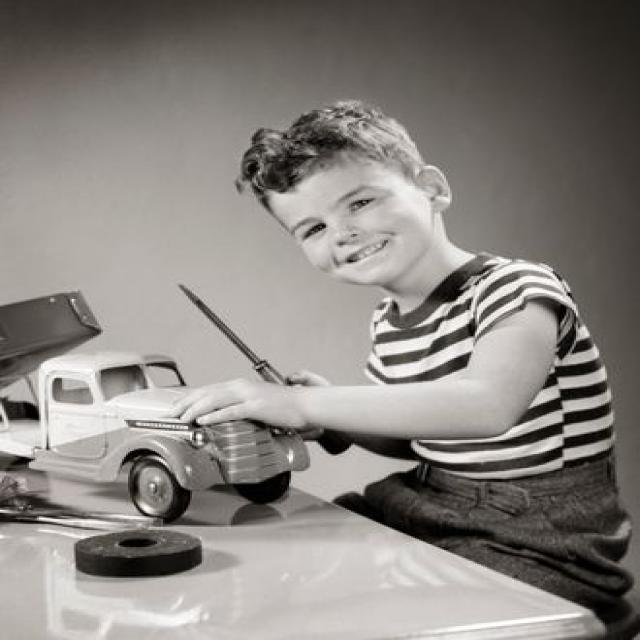screwdriver: (174, 280, 330, 442)
